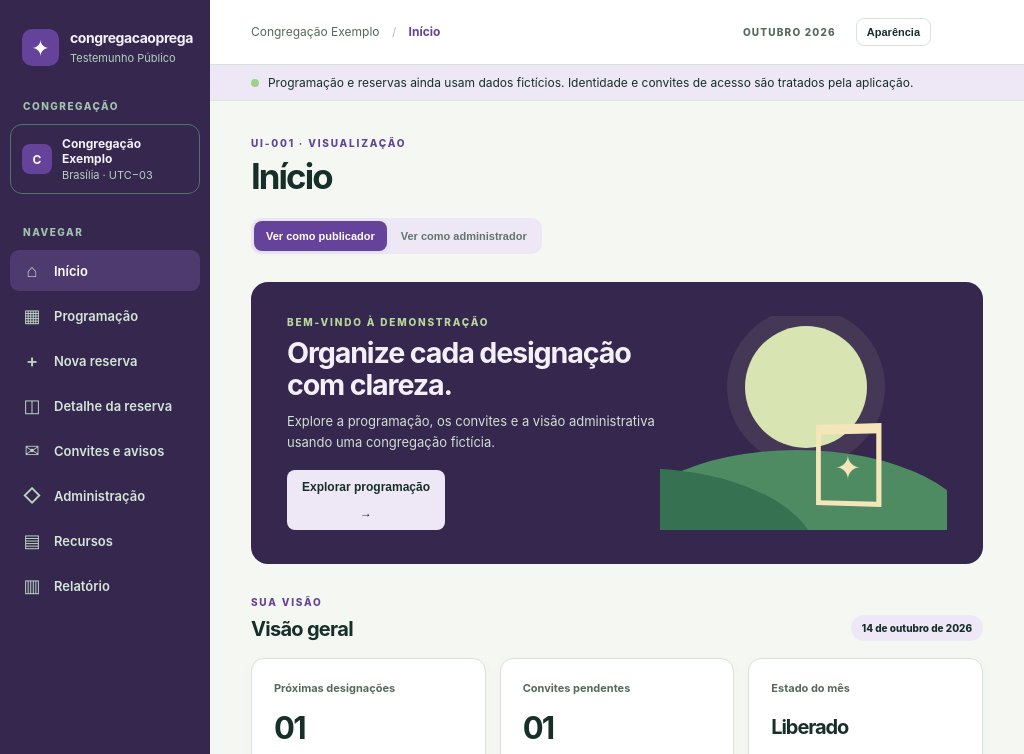
Test: UI-001 prototype journeys › creates a fictional reservation and refuses an unavailable slot
Click the link "+ Nova reserva" at (82, 360), box [26,350,138,370]
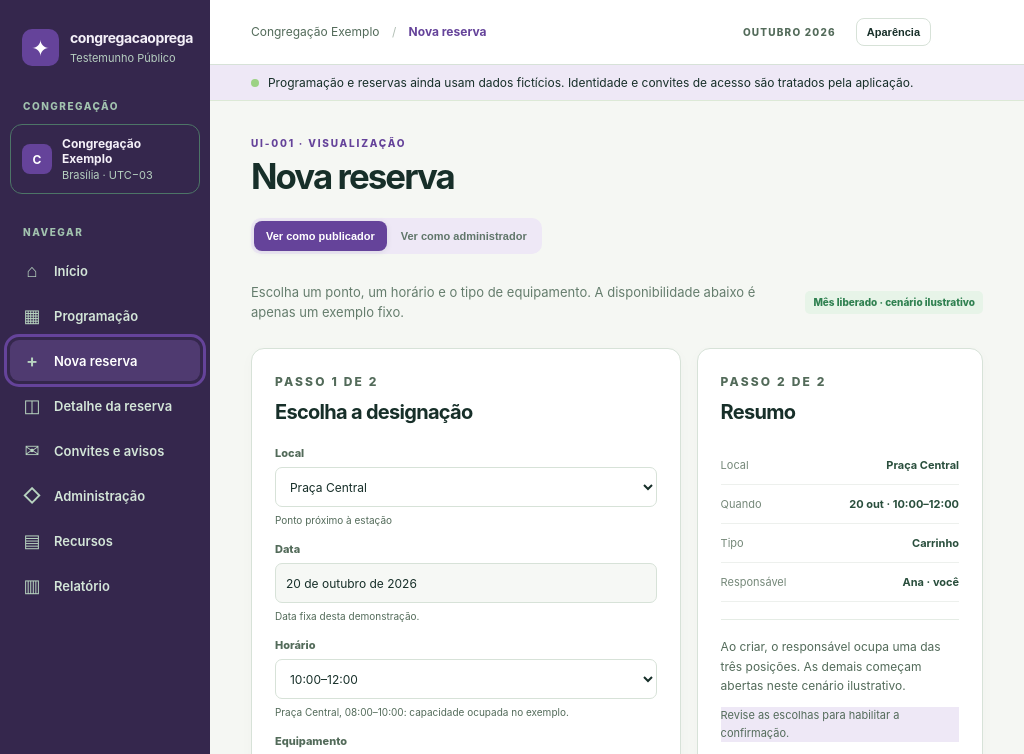
Select "08:00–10:00" in the dropdown labelled "Horário" at (466, 679), box [275,659,657,699]
(page scrolled)
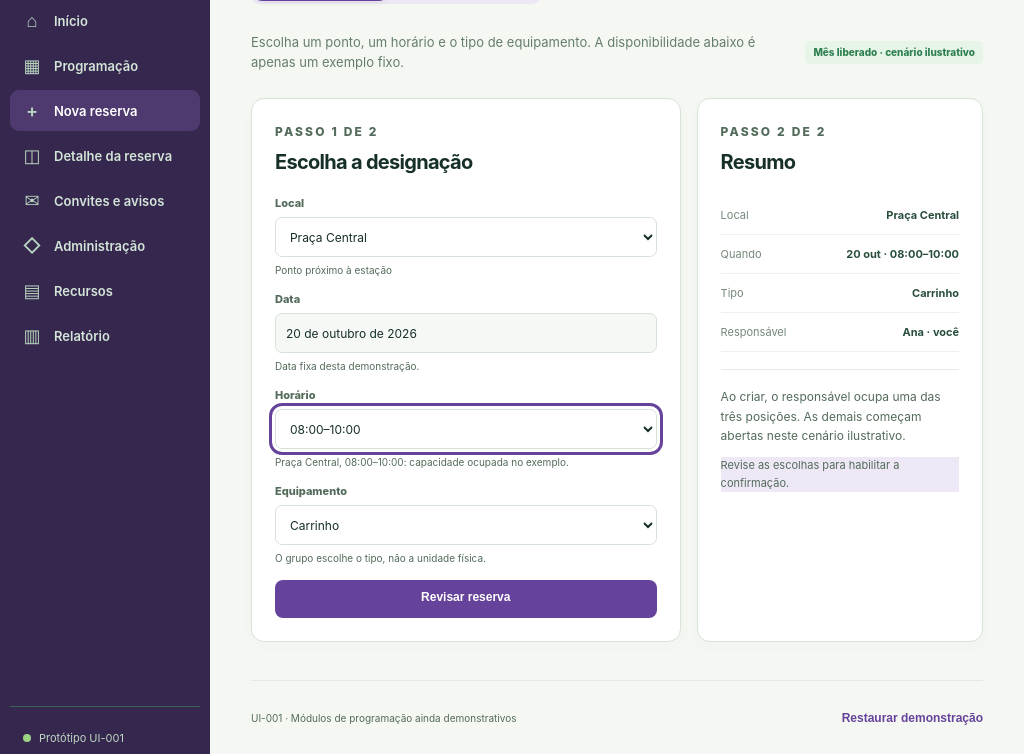
Click the button "Revisar reserva" at (466, 599), box [275,580,657,618]
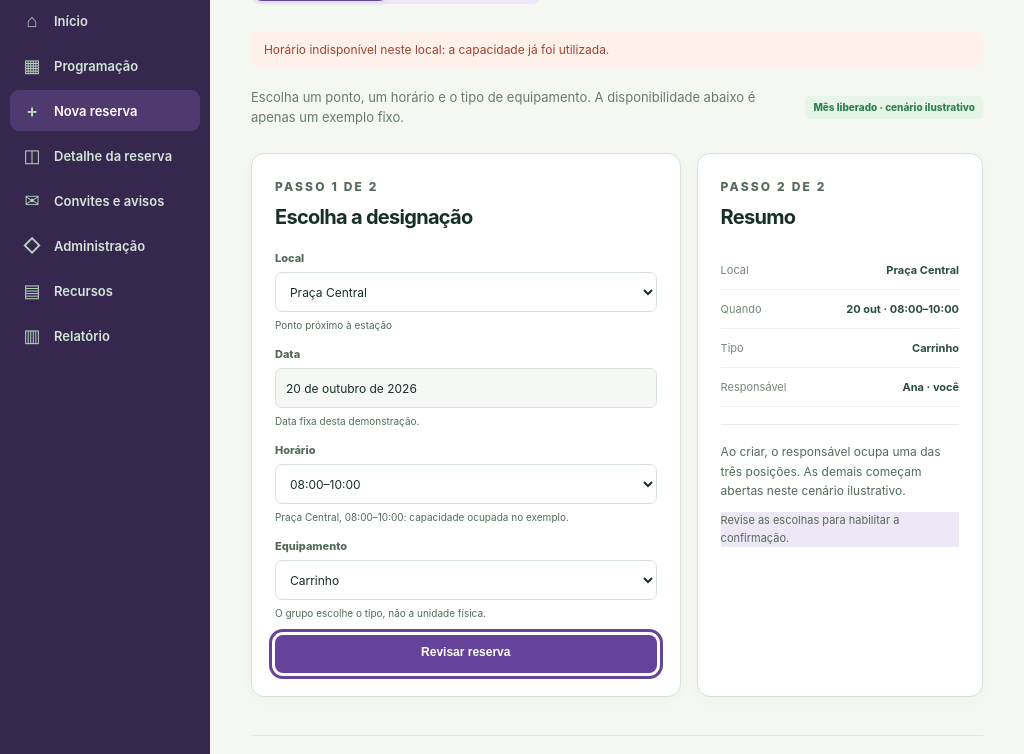
Now the message shows "indisponível", box [264,42,609,57]
Select "10:00–12:00" in the dropdown labelled "Horário" at (466, 484), box [275,464,657,504]
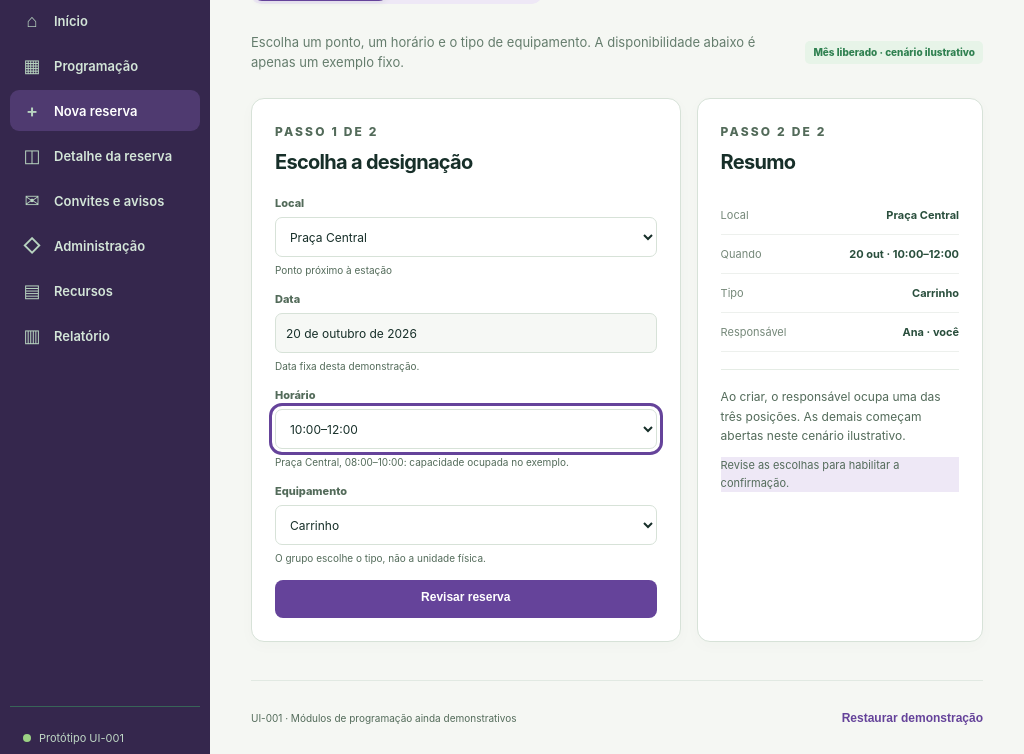
Click the button "Revisar reserva" at (466, 599), box [275,580,657,618]
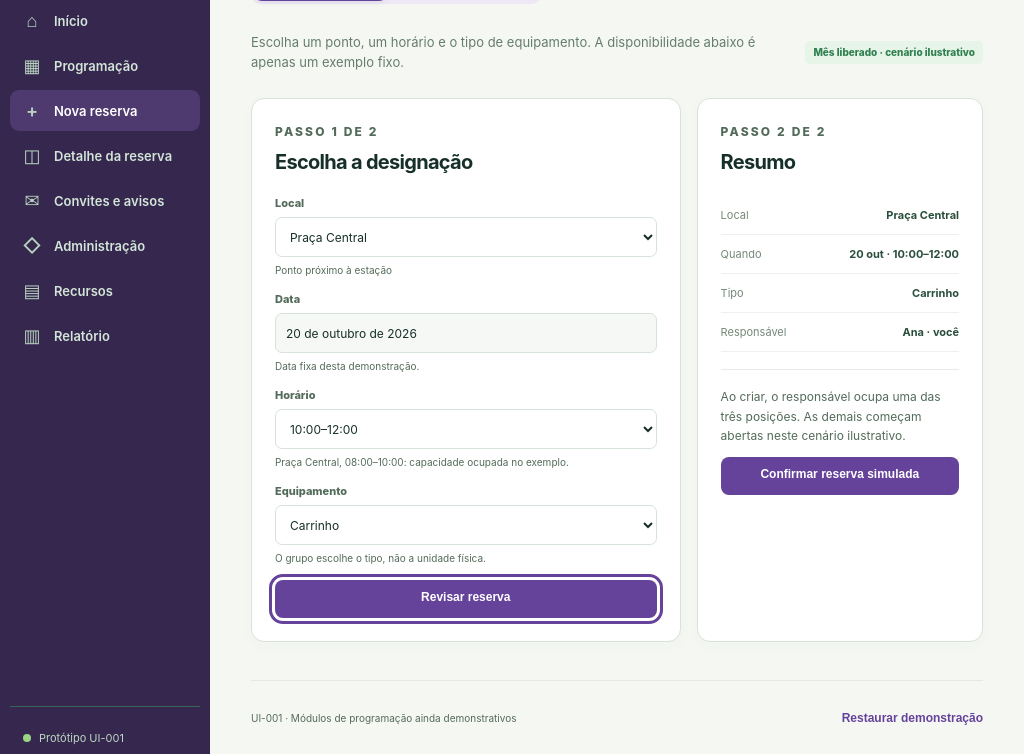
Click the button "Confirmar reserva simulada" at (840, 476), box [721,457,959,495]
(page scrolled)
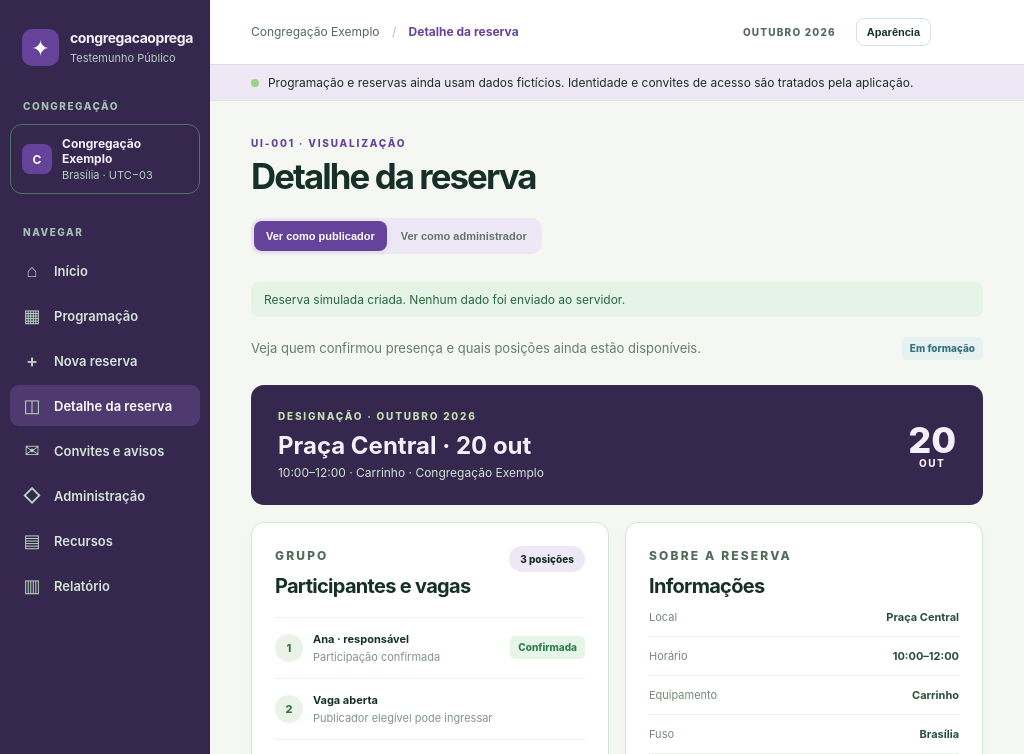
Now the message shows "Reserva simulada criada", box [264,292,625,307]
Now the heading "Detalhe da reserva" is shown, box [251,158,536,196]
